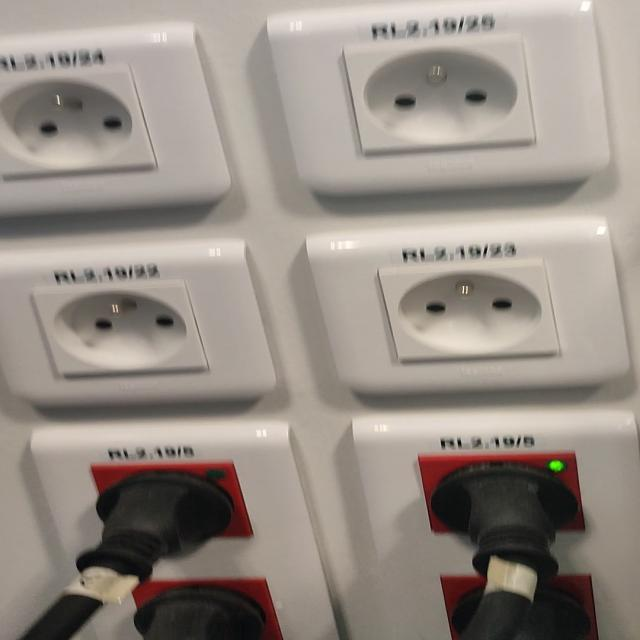house plug: (348, 37, 538, 154), (381, 262, 560, 361), (1, 63, 154, 178), (33, 282, 206, 378)
